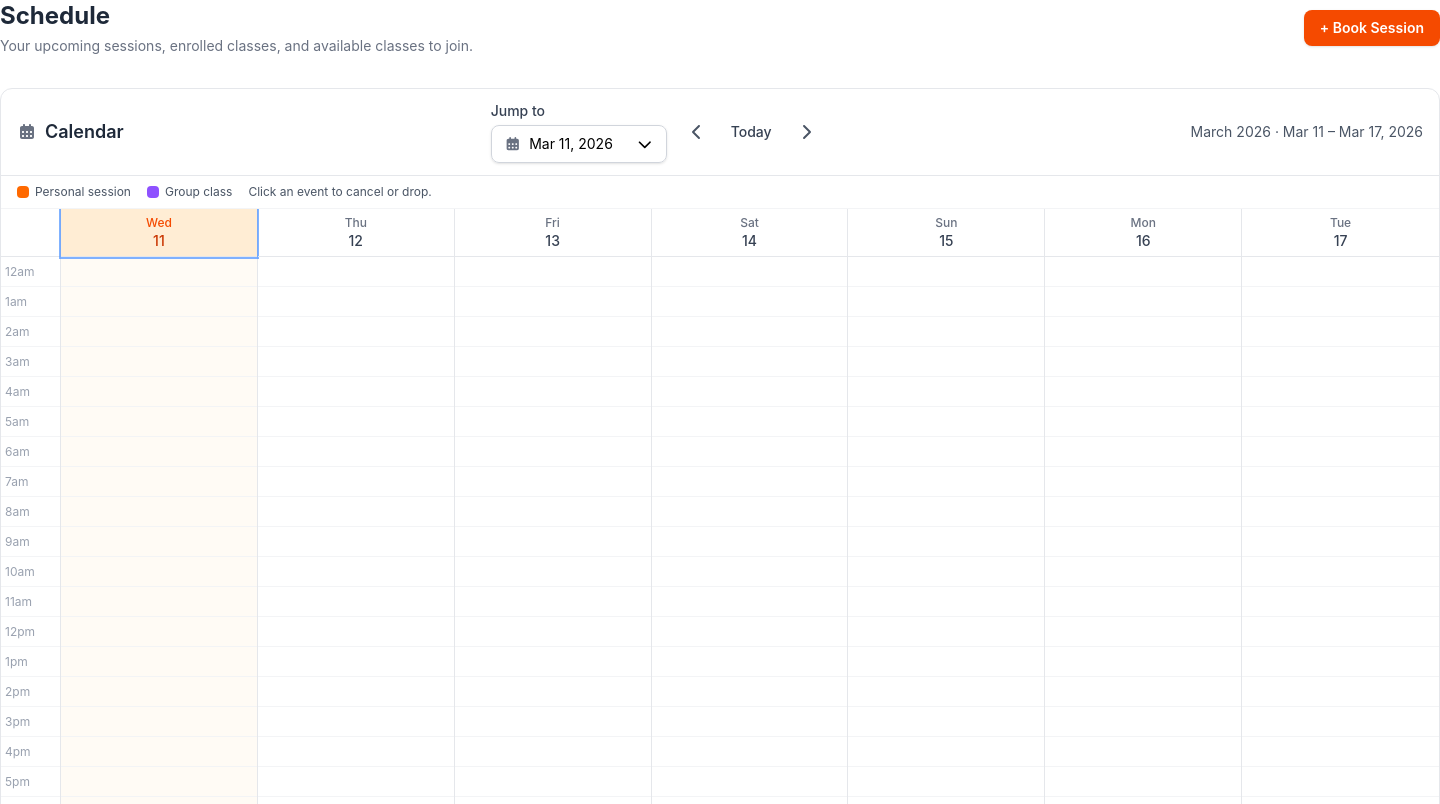
Member Schedule page › opens Book Session modal
The width and height of the screenshot is (1440, 804).
Click the button "+ Book Session".
click(1372, 28)  # box [1304,10,1439,46]
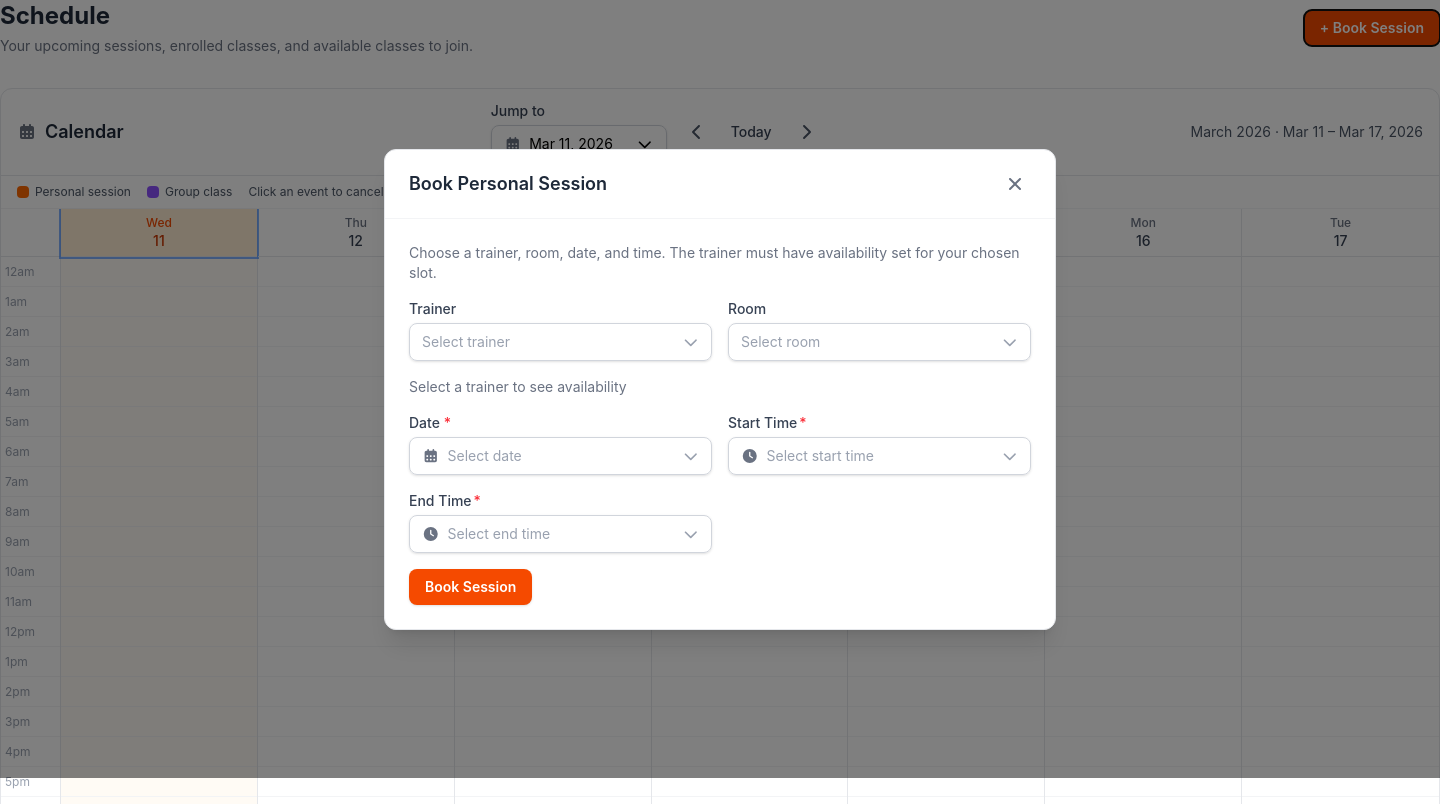
Now the heading "Book Personal Session" is shown, box [409,170,607,198]
